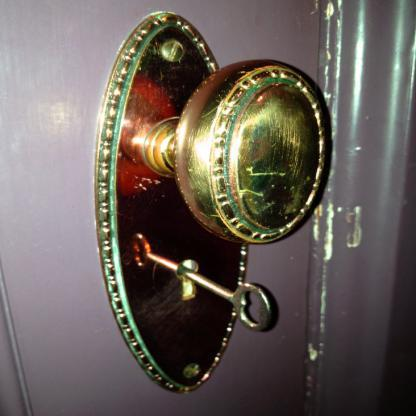door: (0, 0, 332, 415)
knob: (165, 56, 338, 244)
